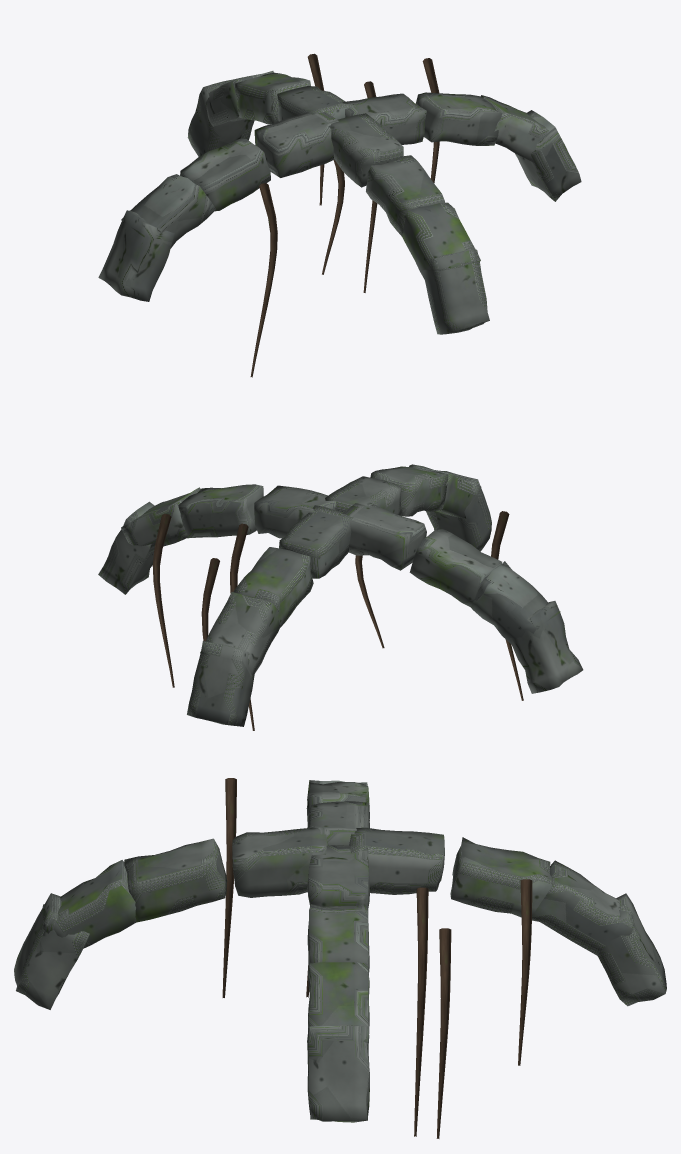
Rendered from mod_ceiling_vault_4m.glb.
The picture shows the model from 3 angles, top to bottom: view 1: azimuth 30°, elevation 25°; view 2: azimuth 150°, elevation 25°; view 3: azimuth 270°, elevation 25°; orthographic projection. The views are drawn at different scales.
Visible parts, largest first — view 1: mod_ceiling_vault_4m__stone_block, mod_ceiling_vault_4m__root; view 2: mod_ceiling_vault_4m__stone_block, mod_ceiling_vault_4m__root; view 3: mod_ceiling_vault_4m__stone_block, mod_ceiling_vault_4m__root.
Boxes of the visible parts, x1,y1,x2,y2 form: mod_ceiling_vault_4m__stone_block: [98, 71, 581, 334]; mod_ceiling_vault_4m__root: [250, 53, 439, 377]; mod_ceiling_vault_4m__stone_block: [98, 464, 583, 726]; mod_ceiling_vault_4m__root: [152, 511, 523, 730]; mod_ceiling_vault_4m__stone_block: [14, 780, 666, 1122]; mod_ceiling_vault_4m__root: [222, 778, 532, 1138].
Size of the model in its own units: 4.47 by 2 by 4.45.
Materials: 3 (3 with a texture image).
